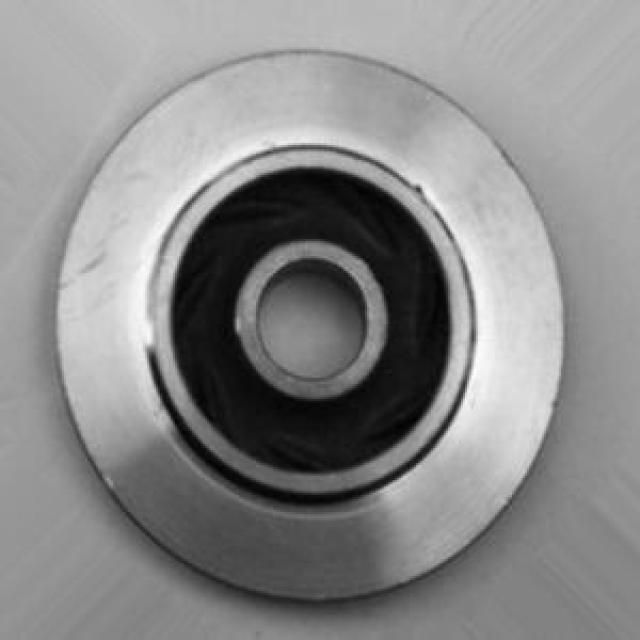Defect: (408, 177, 431, 202)
